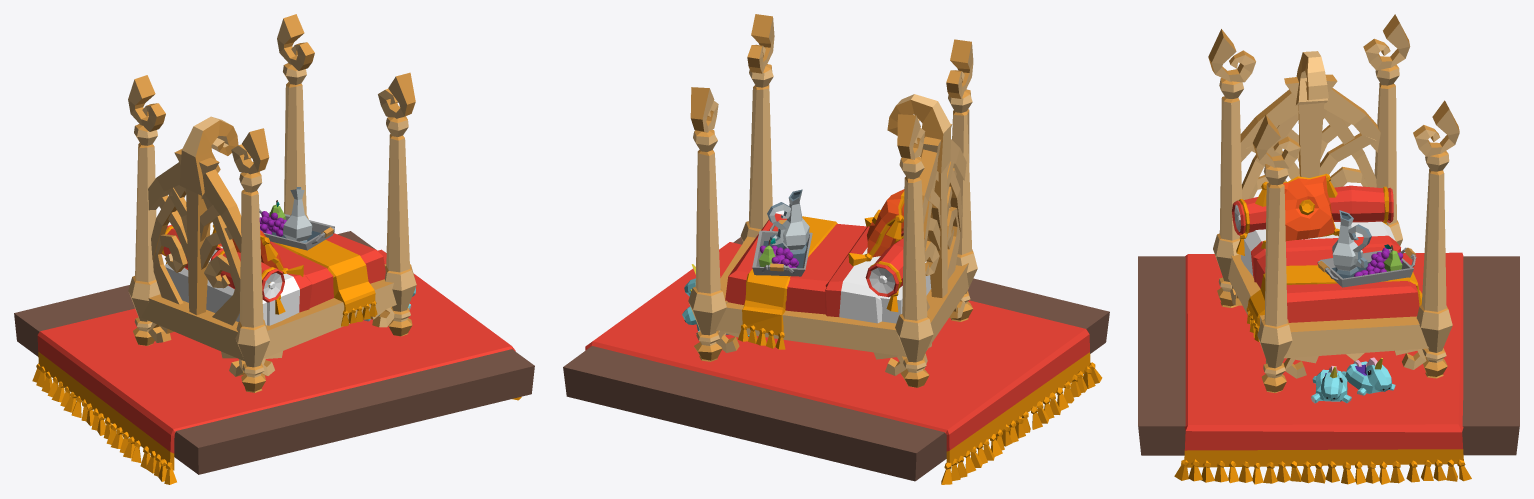
The picture shows the model from 3 angles, left to right: view 1: azimuth 30°, elevation 25°; view 2: azimuth 150°, elevation 25°; view 3: azimuth 270°, elevation 25°; orthographic projection. The views are drawn at different scales.
Parts seen in each view (by area): view 1: group1552030417, group1725234602, group1575677663, group1029287846, group60927288; view 2: group1552030417, group1725234602, group1575677663, group1029287846, group60927288; view 3: group1552030417, group1725234602, group1575677663, group1557277245, group60927288, group235287681.
Boxes of the visible parts, x1=… form: group1552030417: x1=128, y1=14, x2=416, y2=392; group1725234602: x1=37, y1=249, x2=515, y2=470; group1575677663: x1=14, y1=231, x2=534, y2=474; group1029287846: x1=32, y1=363, x2=176, y2=484; group60927288: x1=259, y1=187, x2=334, y2=250; group1552030417: x1=688, y1=14, x2=977, y2=387; group1725234602: x1=585, y1=242, x2=1090, y2=464; group1575677663: x1=563, y1=237, x2=1109, y2=481; group1029287846: x1=941, y1=362, x2=1102, y2=484; group60927288: x1=752, y1=189, x2=812, y2=276; group1552030417: x1=1208, y1=14, x2=1459, y2=392; group1725234602: x1=1184, y1=252, x2=1463, y2=467; group1575677663: x1=1138, y1=256, x2=1519, y2=455; group1557277245: x1=1174, y1=459, x2=1471, y2=484; group60927288: x1=1317, y1=210, x2=1416, y2=287; group235287681: x1=1311, y1=357, x2=1395, y2=403.
Size of the model in its own units: 5.8 by 4.82 by 5.09.
